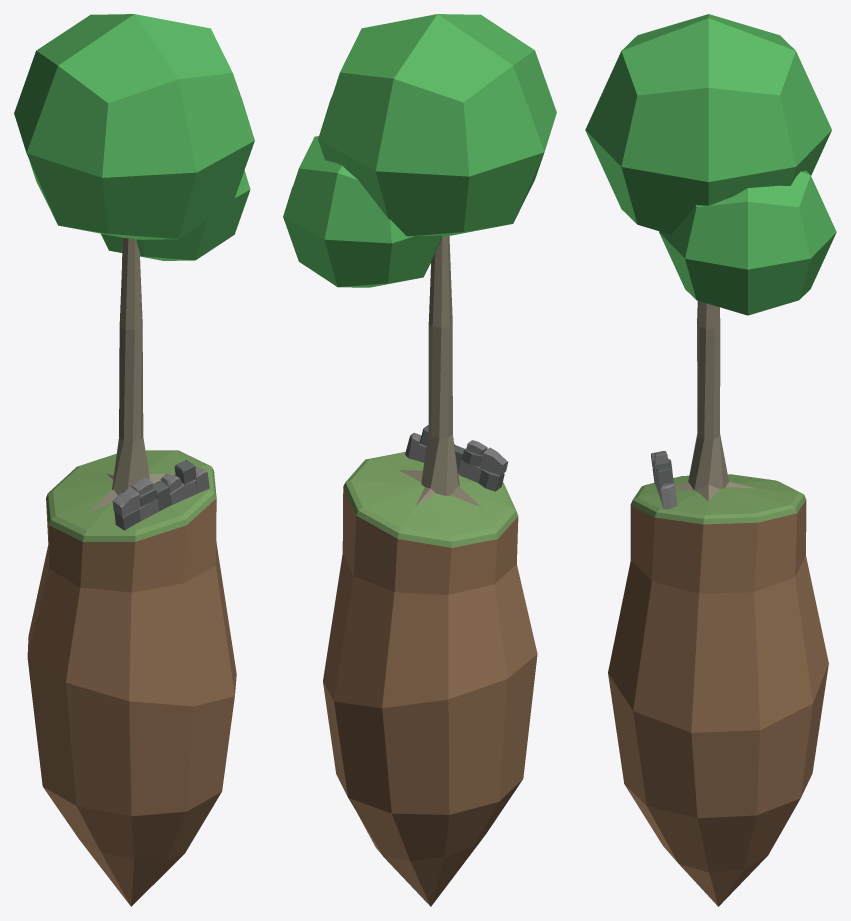
The model's file is SM_miniIsland04.fbx.
3 renders of one model, left to right at view 1: azimuth 30°, elevation 25°; view 2: azimuth 150°, elevation 25°; view 3: azimuth 270°, elevation 25°, orthographic.
Visible parts, largest first — view 1: miniIsland04.001, Cylinder.001, WALL01.002; view 2: miniIsland04.001, Cylinder.001, WALL01.002; view 3: miniIsland04.001, Cylinder.001, WALL01.002.
Boxes of the visible parts, x1=… form: miniIsland04.001: x1=27, y1=450, x2=236, y2=906; Cylinder.001: x1=14, y1=14, x2=254, y2=511; WALL01.002: x1=112, y1=460, x2=209, y2=530; miniIsland04.001: x1=323, y1=452, x2=537, y2=906; Cylinder.001: x1=283, y1=14, x2=556, y2=507; WALL01.002: x1=405, y1=425, x2=508, y2=491; miniIsland04.001: x1=608, y1=474, x2=828, y2=906; Cylinder.001: x1=585, y1=14, x2=836, y2=501; WALL01.002: x1=651, y1=451, x2=677, y2=509.
Size of the model in its own units: 474 by 1730 by 444.
